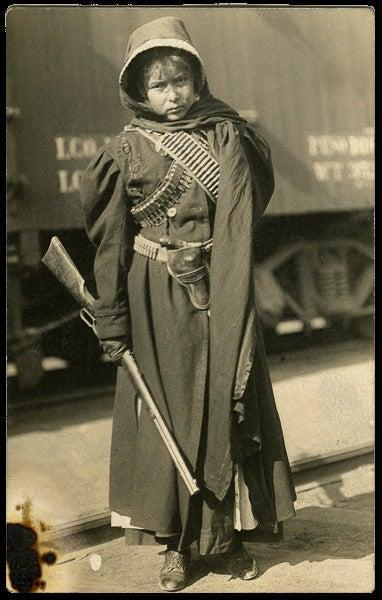rifle: (38, 233, 205, 496)
